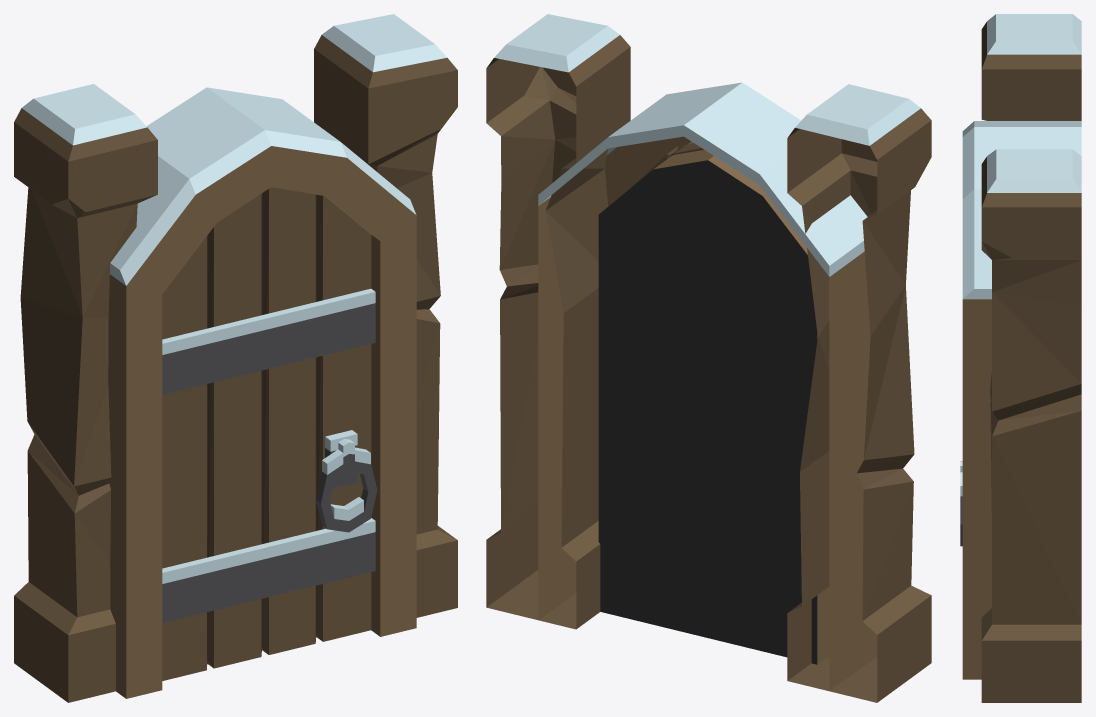
Rendered from SM_Bld_House_Door_02_Snow.gltf.
3 renders of one model, left to right at view 1: azimuth 30°, elevation 25°; view 2: azimuth 150°, elevation 25°; view 3: azimuth 270°, elevation 25°, orthographic. The views are drawn at different scales.
Parts seen in each view (by area): view 1: SM_Bld_House_Door_02_Snow; view 2: SM_Bld_House_Door_02_Snow; view 3: SM_Bld_House_Door_02_Snow.
Part boxes in pixels (x1,y1,x2,y2): SM_Bld_House_Door_02_Snow: (14,14,457,702); SM_Bld_House_Door_02_Snow: (486,14,931,702); SM_Bld_House_Door_02_Snow: (960,14,1081,702).
Size of the model in its own units: 1.7 by 2.35 by 0.497.
Materials: 1 (1 with a texture image).
